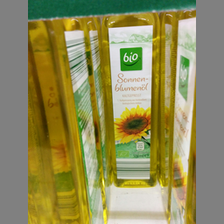oil: (101, 13, 161, 186)
